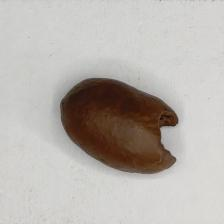NG: (151, 98, 181, 167)
